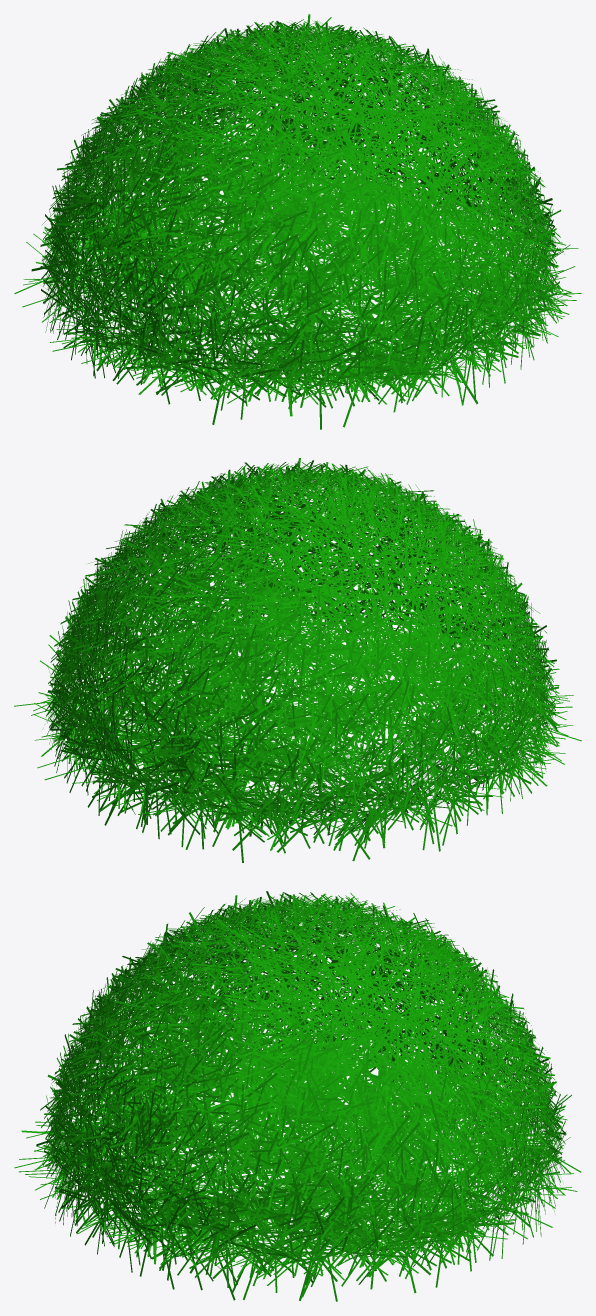
Rendered from 丸い草.fbx.
3 renders of one model, top to bottom at view 1: azimuth 30°, elevation 25°; view 2: azimuth 150°, elevation 25°; view 3: azimuth 270°, elevation 25°, orthographic. The views are drawn at different scales.
Visible parts, largest first — view 1: 平面.002; view 2: 平面.002; view 3: 平面.002.
Boxes of the visible parts, x1,y1,x2,y2 form: 平面.002: (14,14,581,429); 平面.002: (14,458,581,862); 平面.002: (14,891,581,1301).
Bounding box in the file's own units: 111 × 61.39 × 110.
